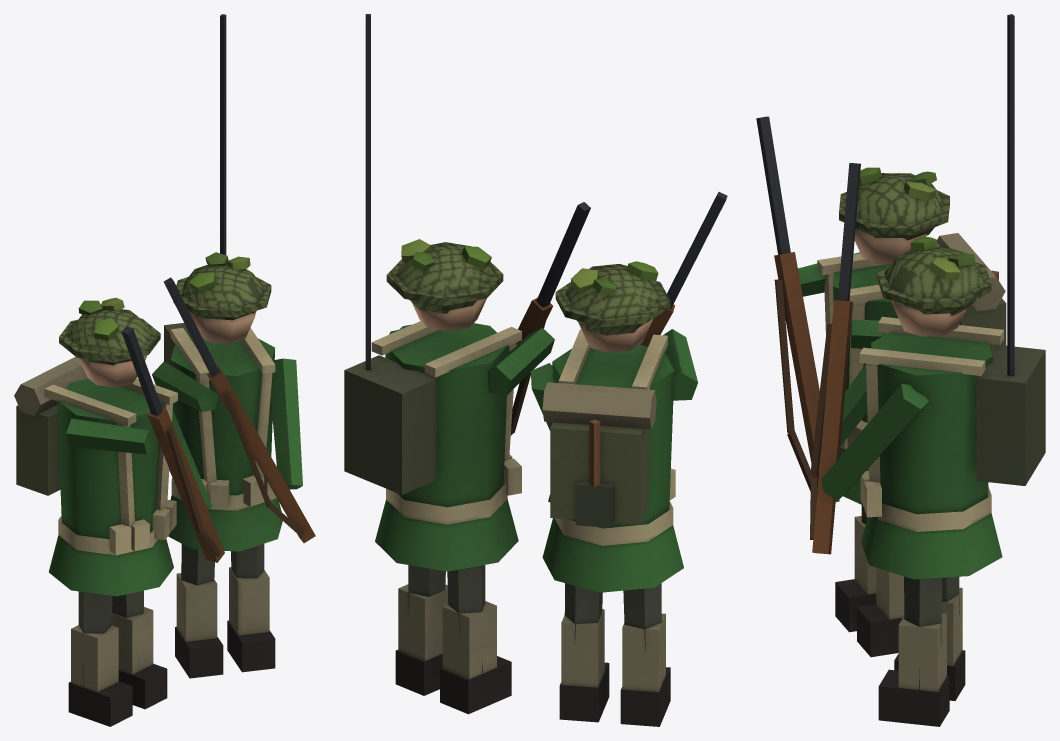
The model's file is sentry_dl6_green.glb.
3 renders of one model, left to right at view 1: azimuth 30°, elevation 25°; view 2: azimuth 150°, elevation 25°; view 3: azimuth 270°, elevation 25°, orthographic. The views are drawn at different scales.
Parts seen in each view (by area): view 1: sentry_dl6_green; view 2: sentry_dl6_green; view 3: sentry_dl6_green.
Boxes of the visible parts, x1=… form: sentry_dl6_green: x1=14, y1=14, x2=315, y2=726; sentry_dl6_green: x1=344, y1=14, x2=727, y2=726; sentry_dl6_green: x1=756, y1=14, x2=1045, y2=726.
Size of the model in its own units: 0.2575 by 0.589 by 0.2183.
1 material, 1 textured.
